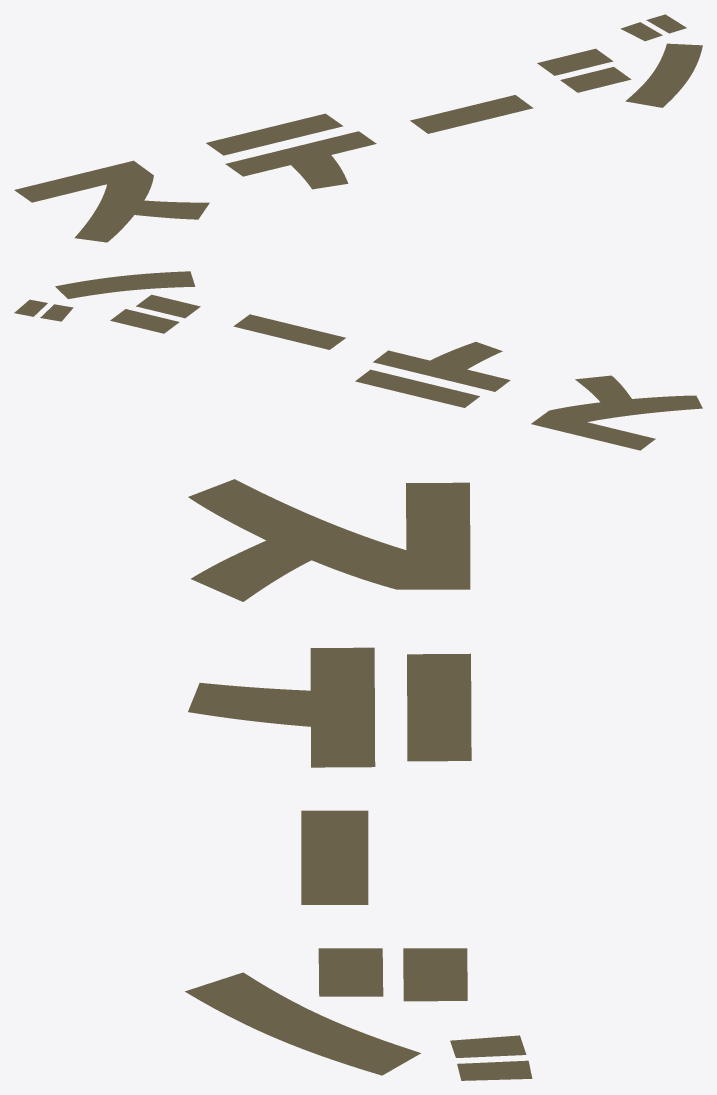
The model's file is stage.obj.
The picture shows the model from 3 angles, top to bottom: view 1: azimuth 30°, elevation 25°; view 2: azimuth 150°, elevation 25°; view 3: azimuth 270°, elevation 25°; orthographic projection. The views are drawn at different scales.
Parts seen in each view (by area): view 1: テキスト; view 2: テキスト; view 3: テキスト.
Boxes of the visible parts, x1,y1,x2,y2 form: テキスト: (14, 14, 702, 242); テキスト: (14, 271, 702, 450); テキスト: (185, 479, 532, 1080).
Size of the model in its own units: 2.62 by 0 by 0.639.
